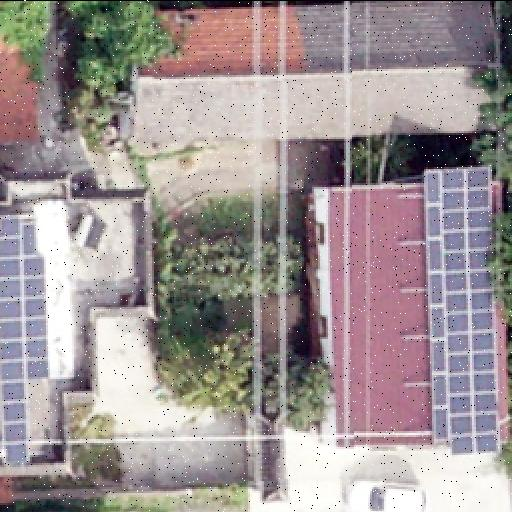solar-panel: (423, 166, 497, 454), (0, 217, 48, 463)
